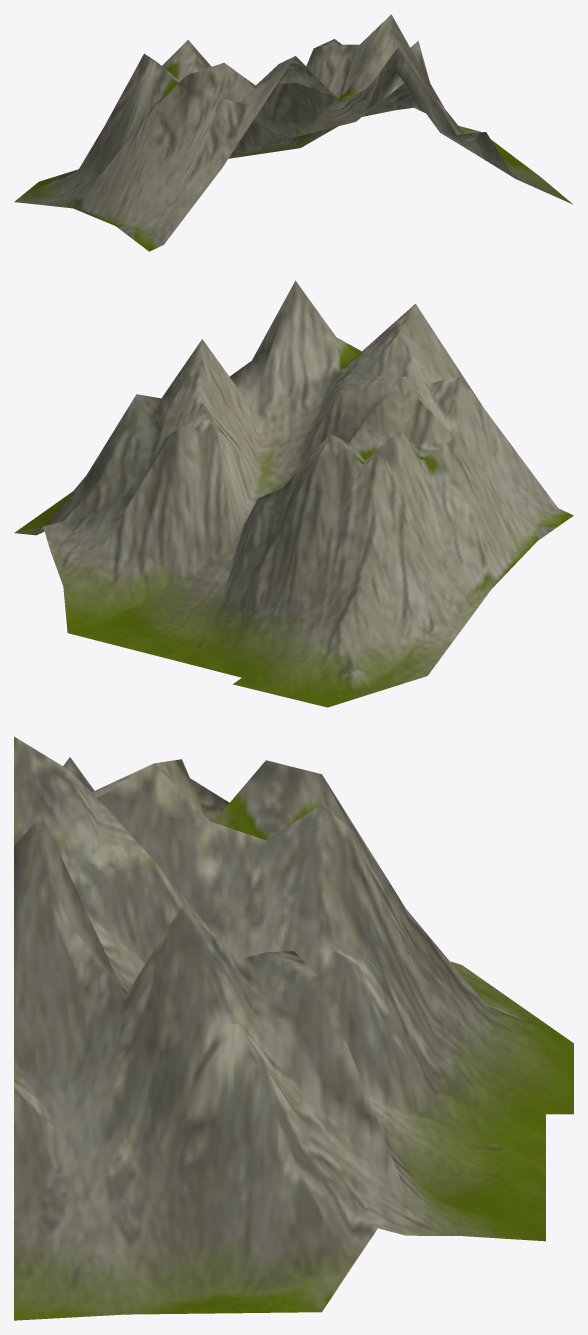
The model's file is Terrain_08.fbx.
3 renders of one model, top to bottom at view 1: azimuth 30°, elevation 25°; view 2: azimuth 150°, elevation 25°; view 3: azimuth 270°, elevation 25°, orthographic. The views are drawn at different scales.
Parts seen in each view (by area): view 1: Terrain_08; view 2: Terrain_08; view 3: Terrain_08.
Part boxes in pixels (box(x1,y1,x2,y2)): Terrain_08: box(14, 14, 572, 251); Terrain_08: box(14, 280, 573, 707); Terrain_08: box(14, 736, 573, 1320).
Size of the model in its own units: 23.43 by 12.18 by 16.16.
